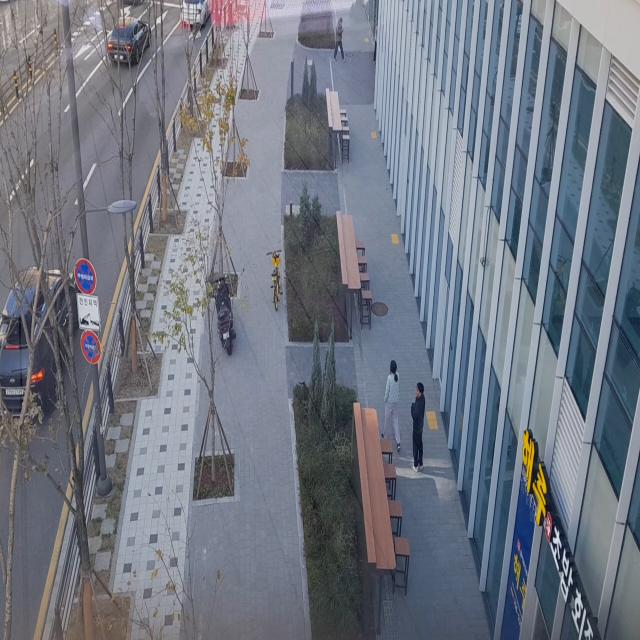Car: (0, 252, 95, 422), (104, 10, 155, 72), (177, 0, 223, 33)
